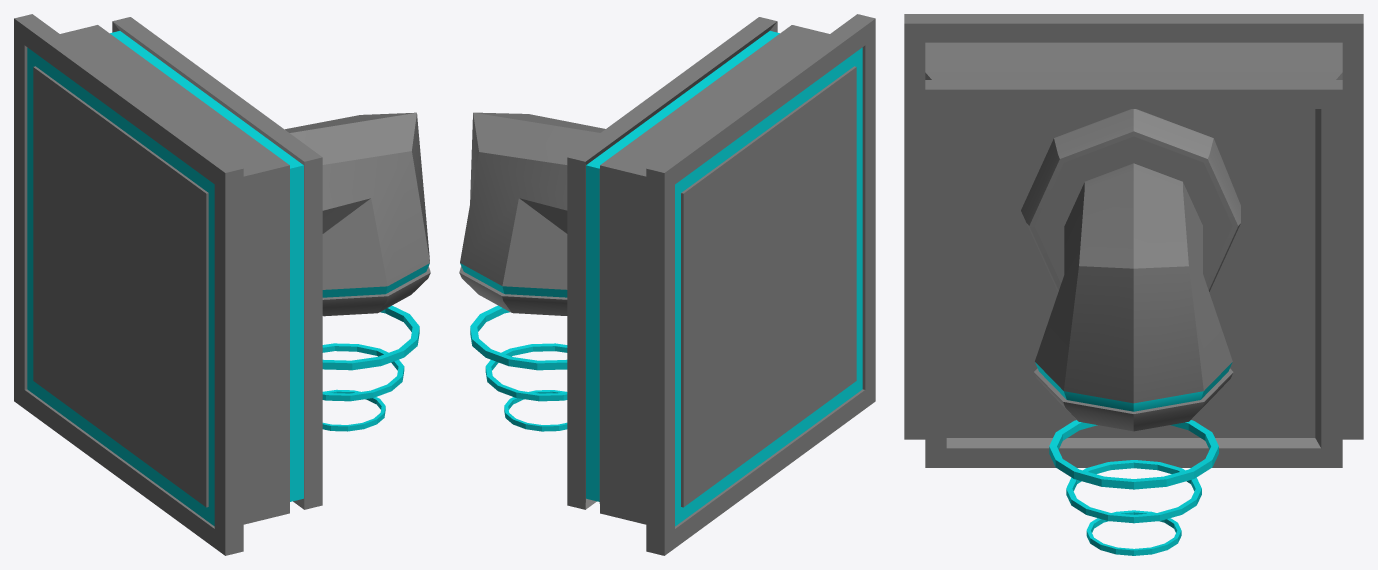
The model's file is Plataform_Vertical (1).fbx.
3 renders of one model, left to right at view 1: azimuth 30°, elevation 25°; view 2: azimuth 150°, elevation 25°; view 3: azimuth 270°, elevation 25°, orthographic. The views are drawn at different scales.
Parts seen in each view (by area): view 1: Platform.001, Platform_Ring_1.001, Platform_Ring_2.001, Platform_Ring_3.001; view 2: Platform.001, Platform_Ring_1.001, Platform_Ring_2.001, Platform_Ring_3.001; view 3: Platform.001, Platform_Ring_1.001, Platform_Ring_2.001, Platform_Ring_3.001.
Part boxes in pixels (x1,y1,x2,y2): Platform.001: (14, 14, 430, 555); Platform_Ring_1.001: (322, 305, 419, 370); Platform_Ring_2.001: (322, 343, 404, 401); Platform_Ring_3.001: (322, 389, 385, 431); Platform.001: (459, 14, 875, 555); Platform_Ring_1.001: (470, 305, 567, 370); Platform_Ring_2.001: (485, 343, 567, 401); Platform_Ring_3.001: (504, 390, 567, 431); Platform.001: (904, 14, 1363, 467); Platform_Ring_1.001: (1049, 420, 1218, 489); Platform_Ring_2.001: (1066, 460, 1201, 523); Platform_Ring_3.001: (1086, 510, 1181, 555).
Bounding box in the file's own units: 165 × 200 × 200.
